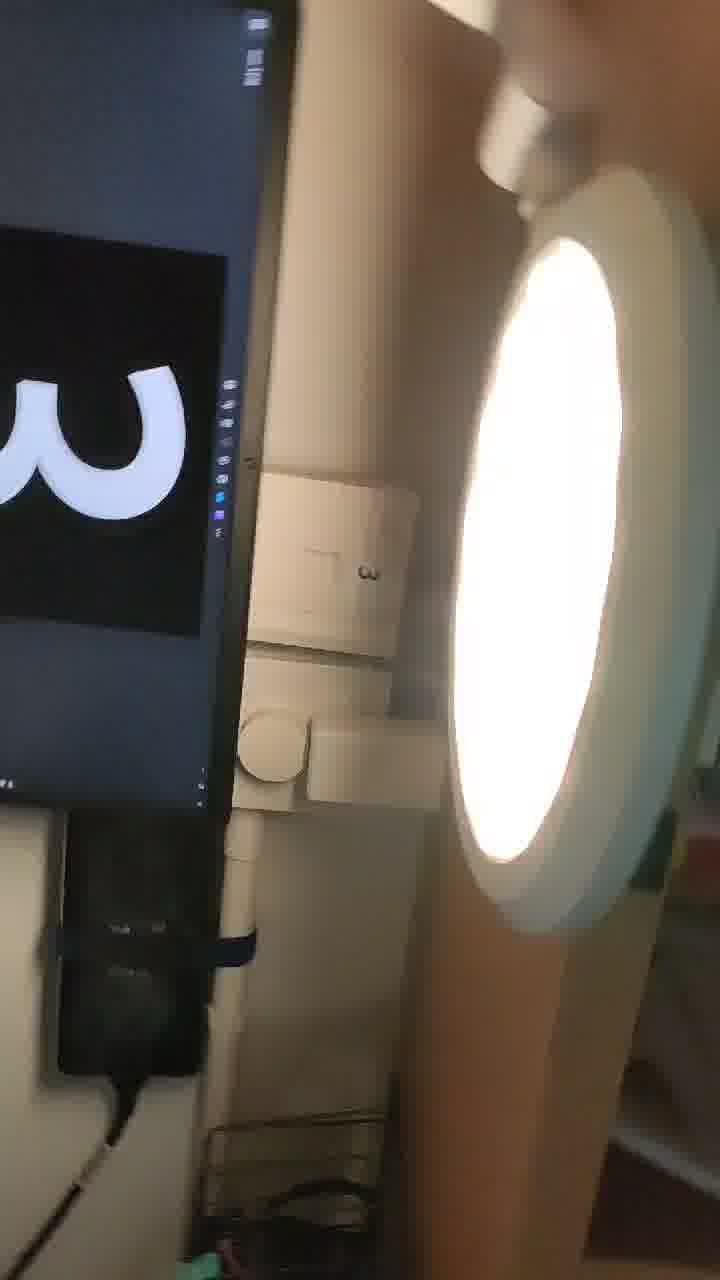three: (1, 268, 226, 623)
